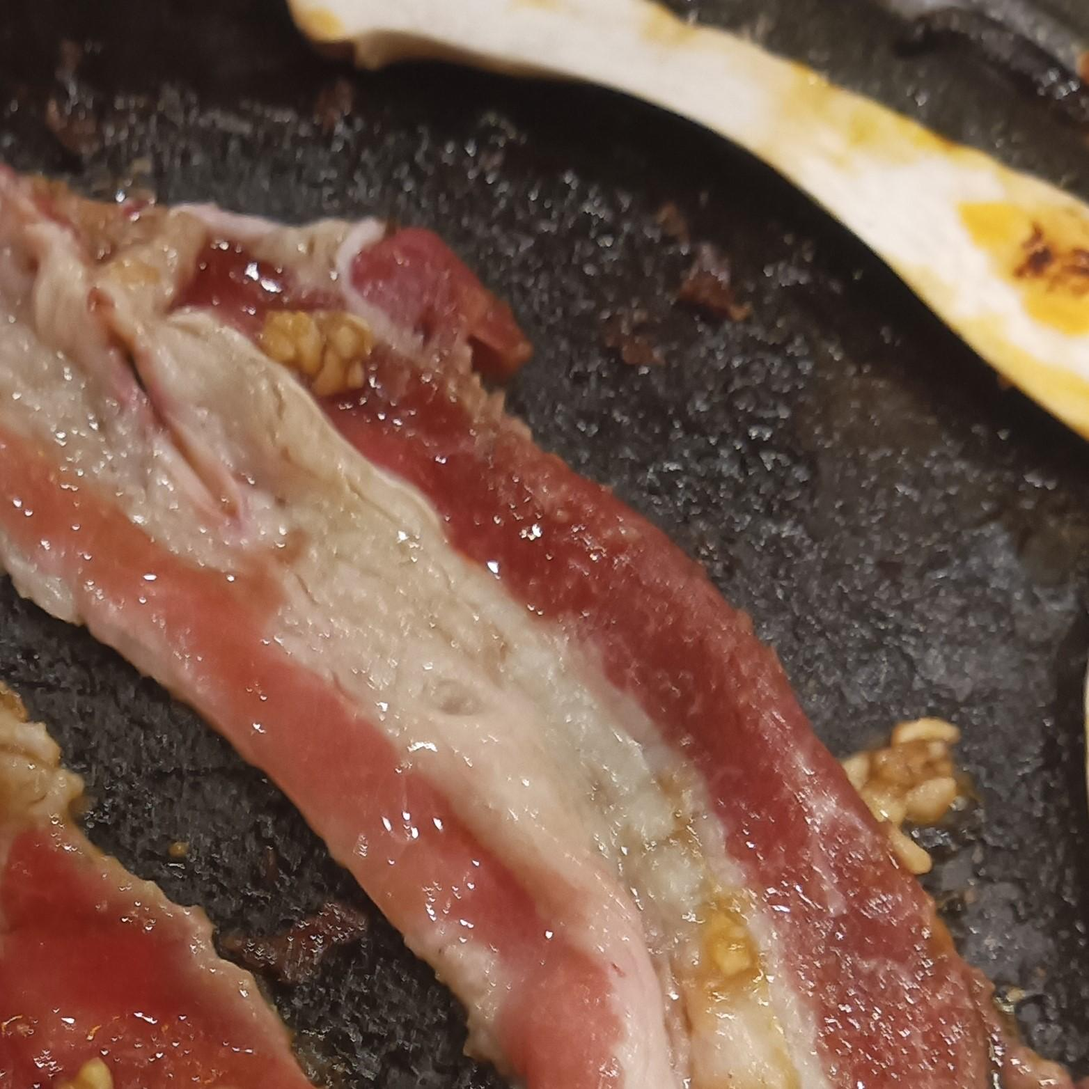Undercooked: (0, 167, 995, 1088), (0, 722, 263, 1088)
